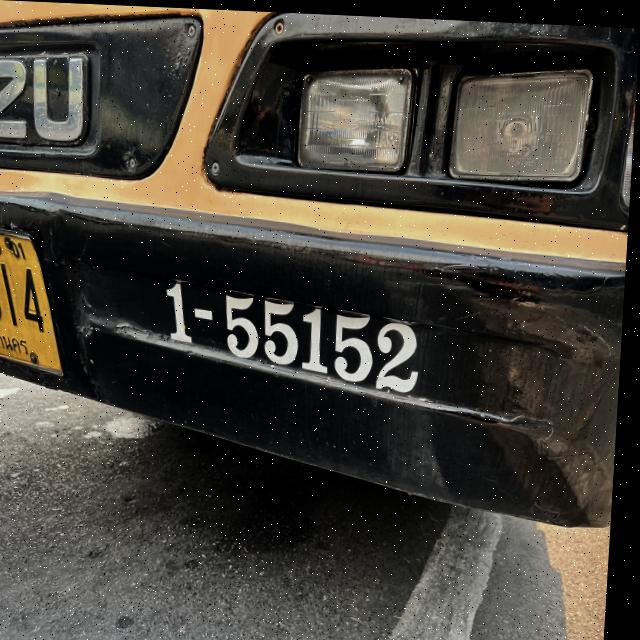BMTA-bus: (0, 0, 640, 530)
